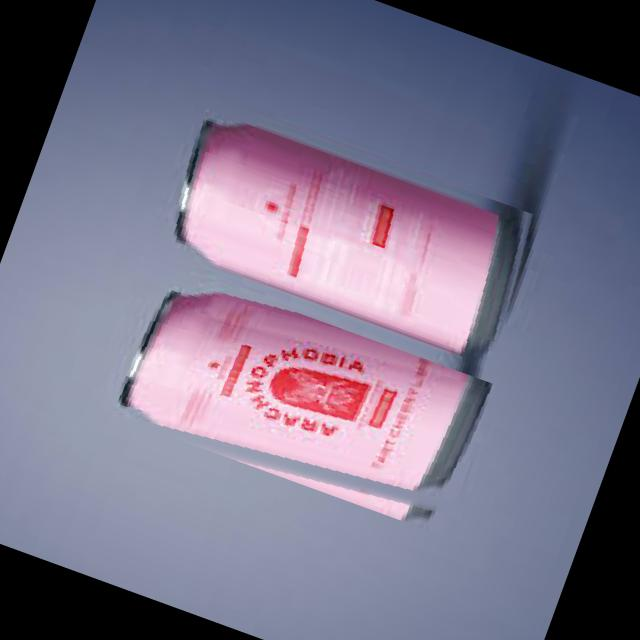Cans: (82, 255, 496, 548), (152, 96, 548, 377)
